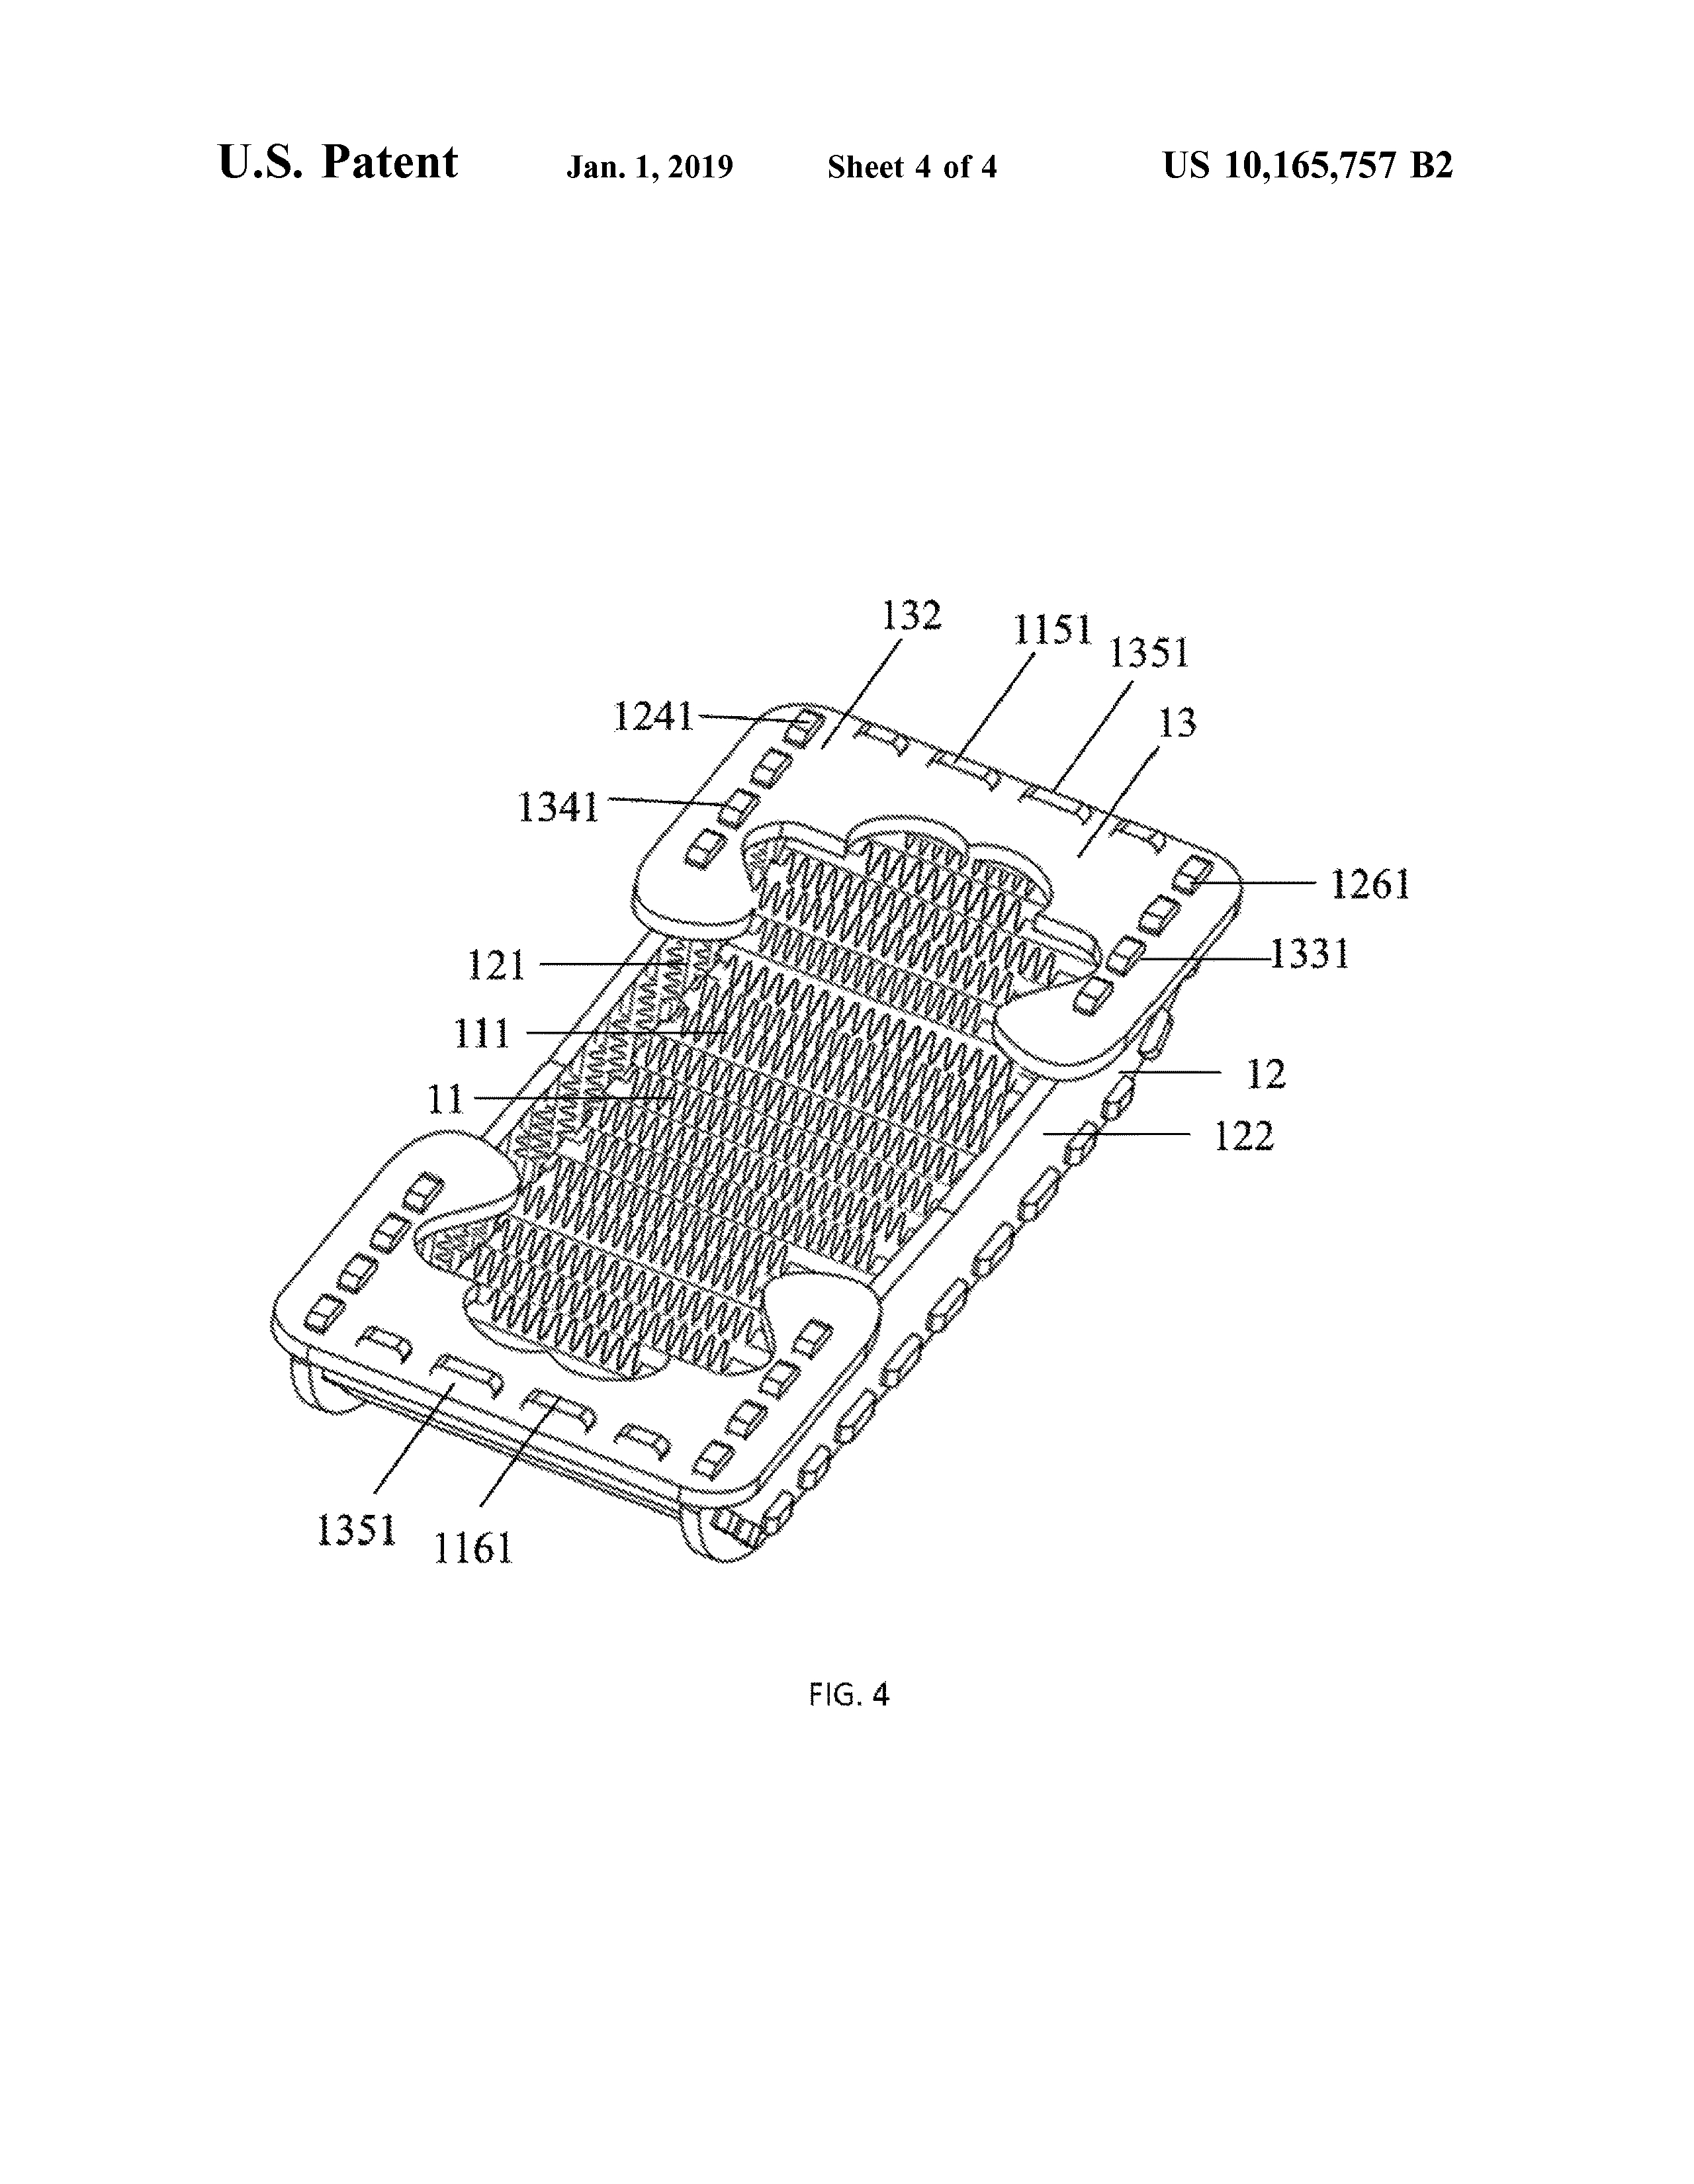patent image: (244, 510, 1425, 1759)
